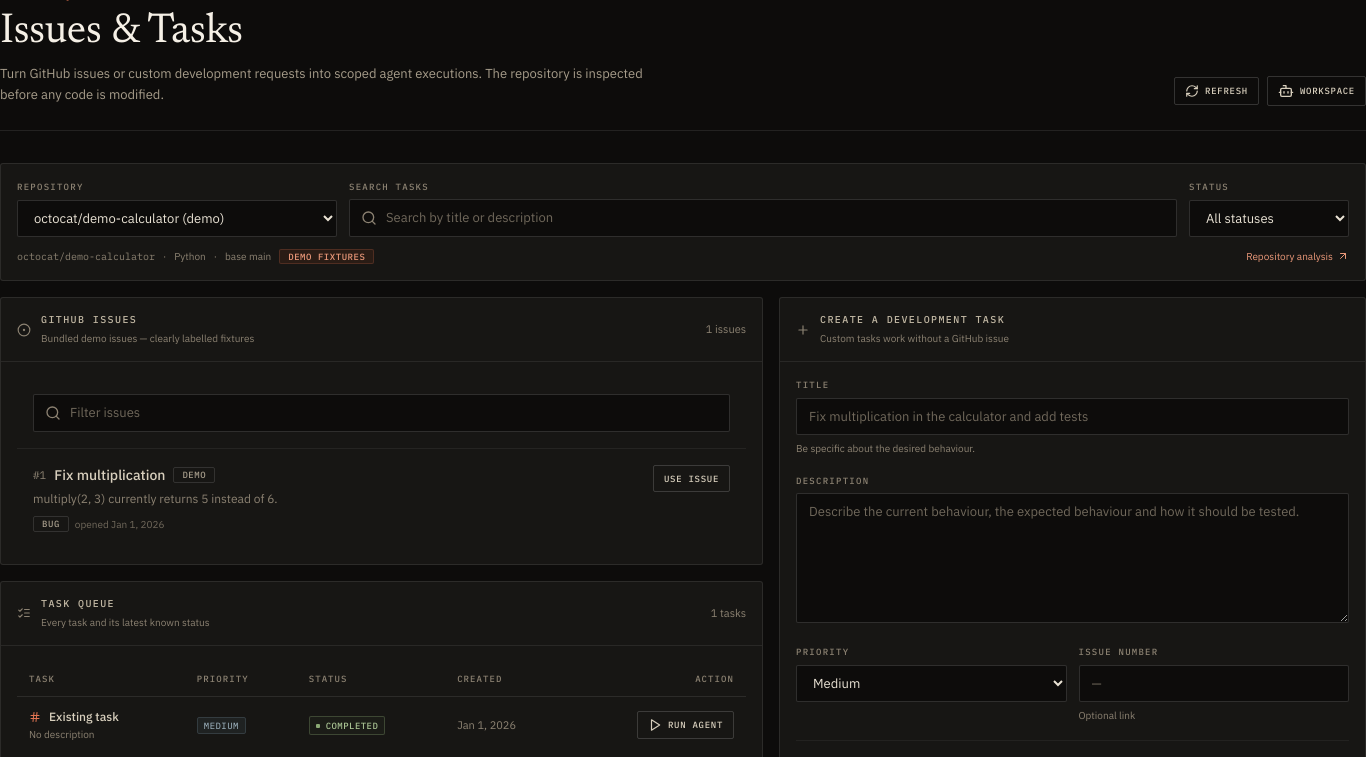
Test case: Tasks › fills the task form from a GitHub issue and creates the task
The image size is (1366, 757).
Expected: the text "Fix multiplication" is shown, [54,465,165,485]
Click the button "Use issue" at (691, 479), box [653,465,730,492]
(page scrolled)
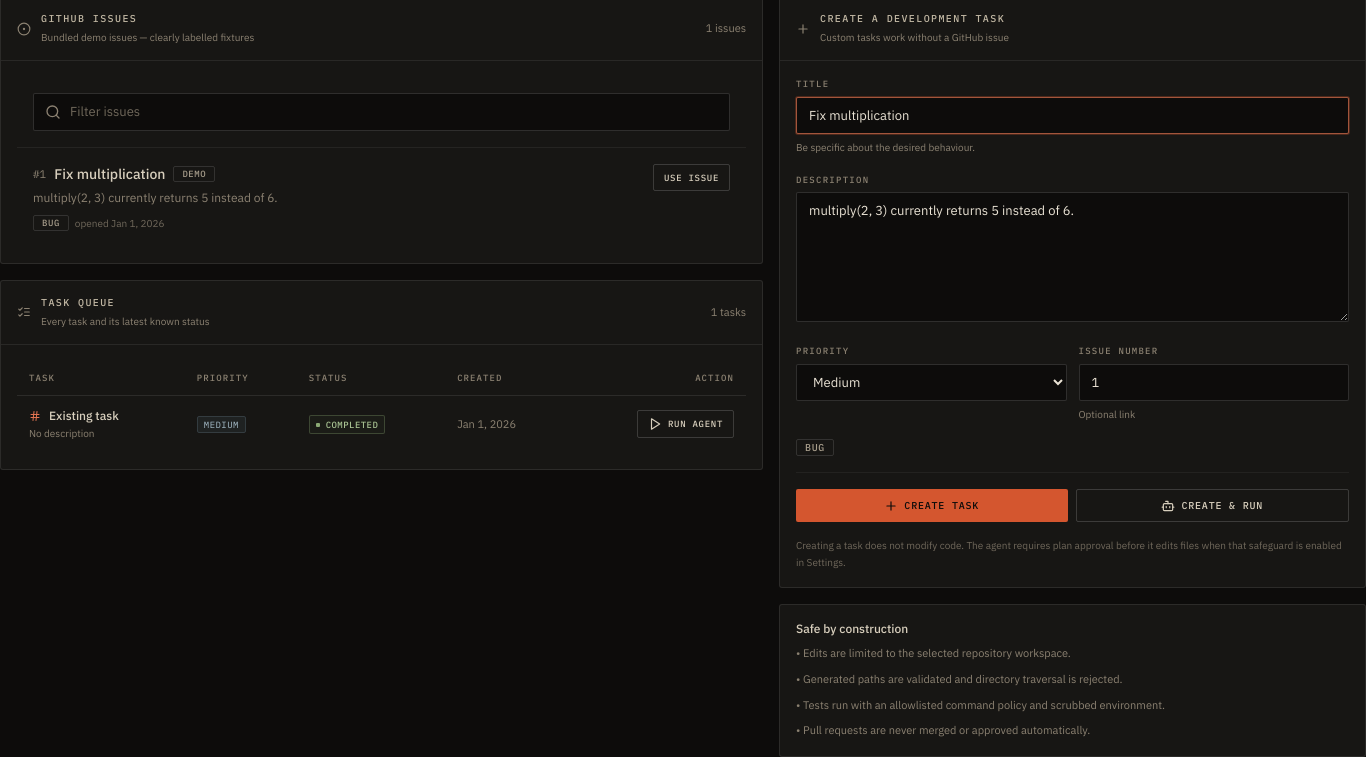
Now the field labelled "Title" holds "Fix multiplication", box [796,97,1349,134]
Now the text box labelled "Description" holds "multiply(2, 3) currently returns 5 instead of 6.", box [796,192,1349,322]
Now the number field labelled "Issue number" holds "1", box [1078,364,1349,401]
Click the button "Create task" at (932, 506), box [796,489,1068,522]
(page scrolled)
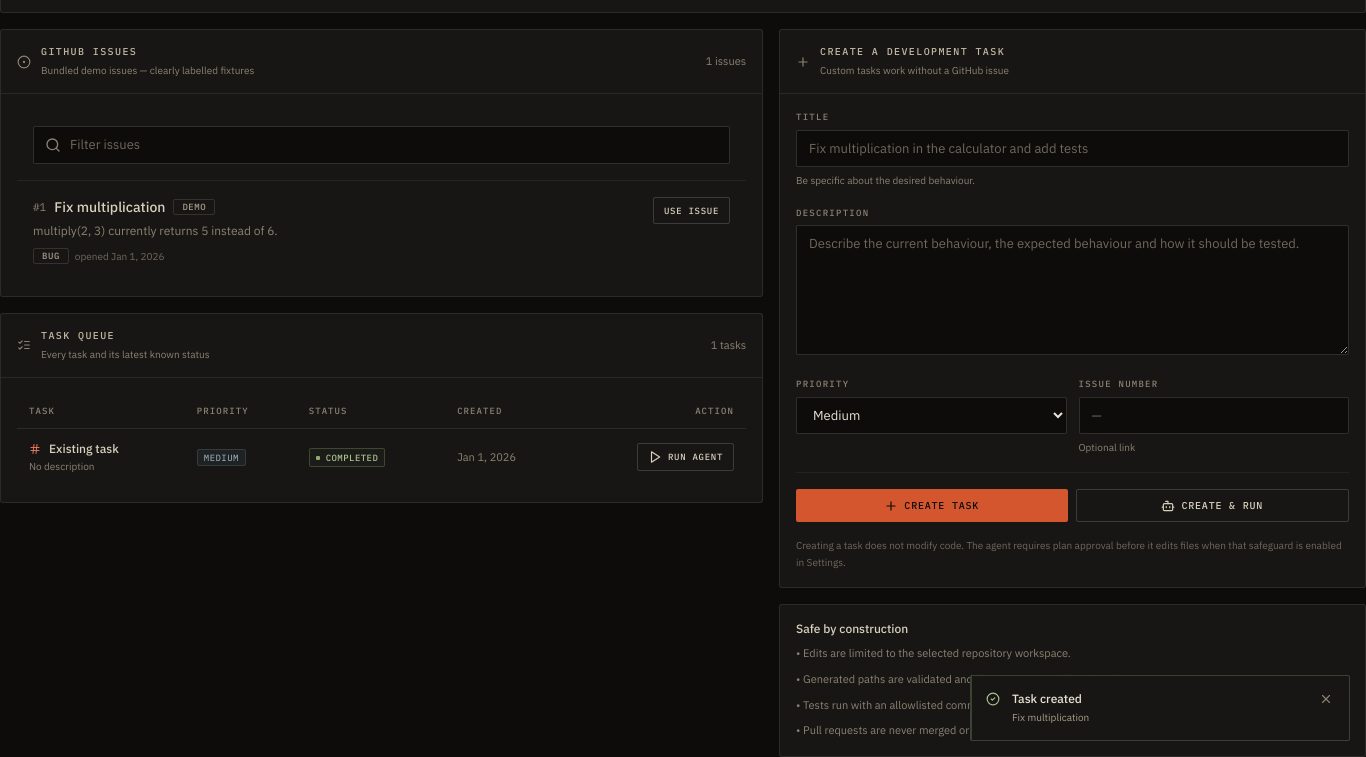
Now the text "Task created" is shown, box [1012,691,1082,706]
Now the field labelled "Title" is empty, box [796,130,1349,167]
